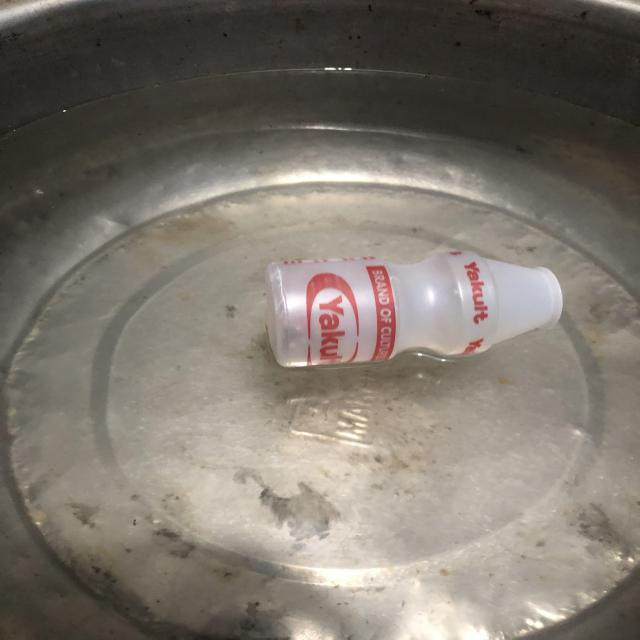Plastic Bottle: (258, 221, 576, 375)
